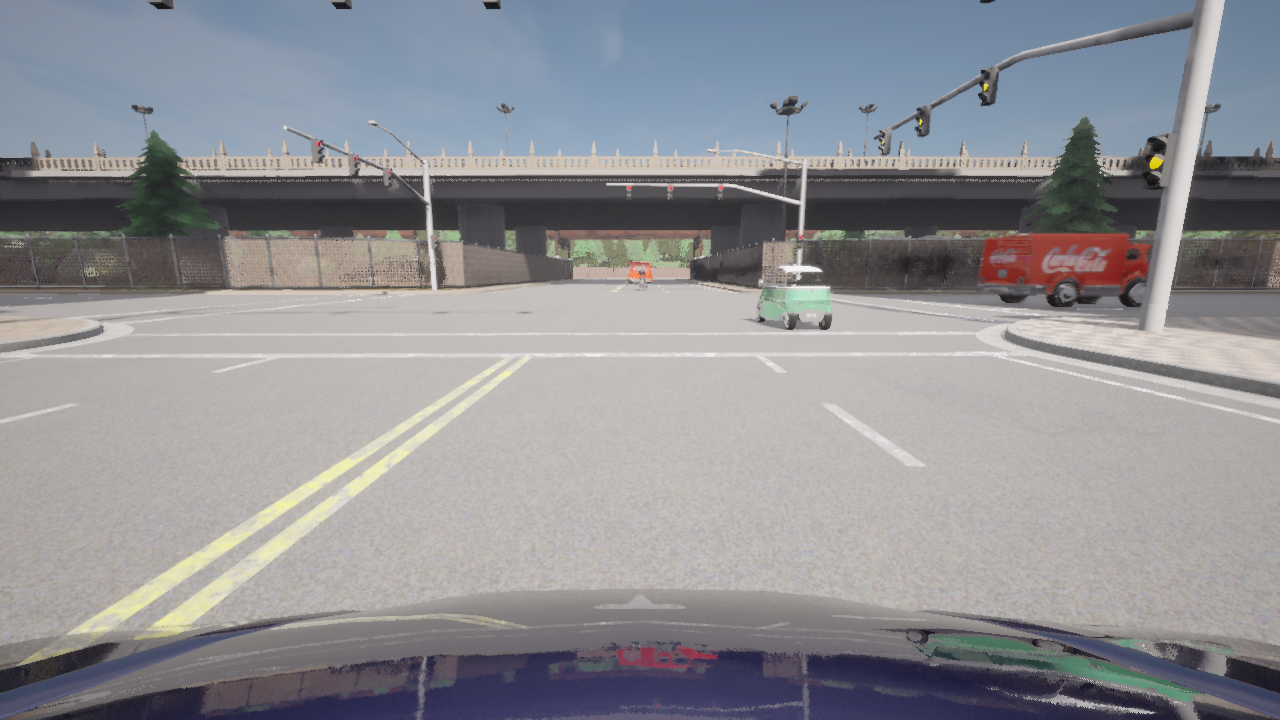cyclist: (0, 588, 1279, 719), (976, 233, 1152, 307), (756, 264, 832, 329), (628, 261, 651, 283), (640, 279, 643, 288)
